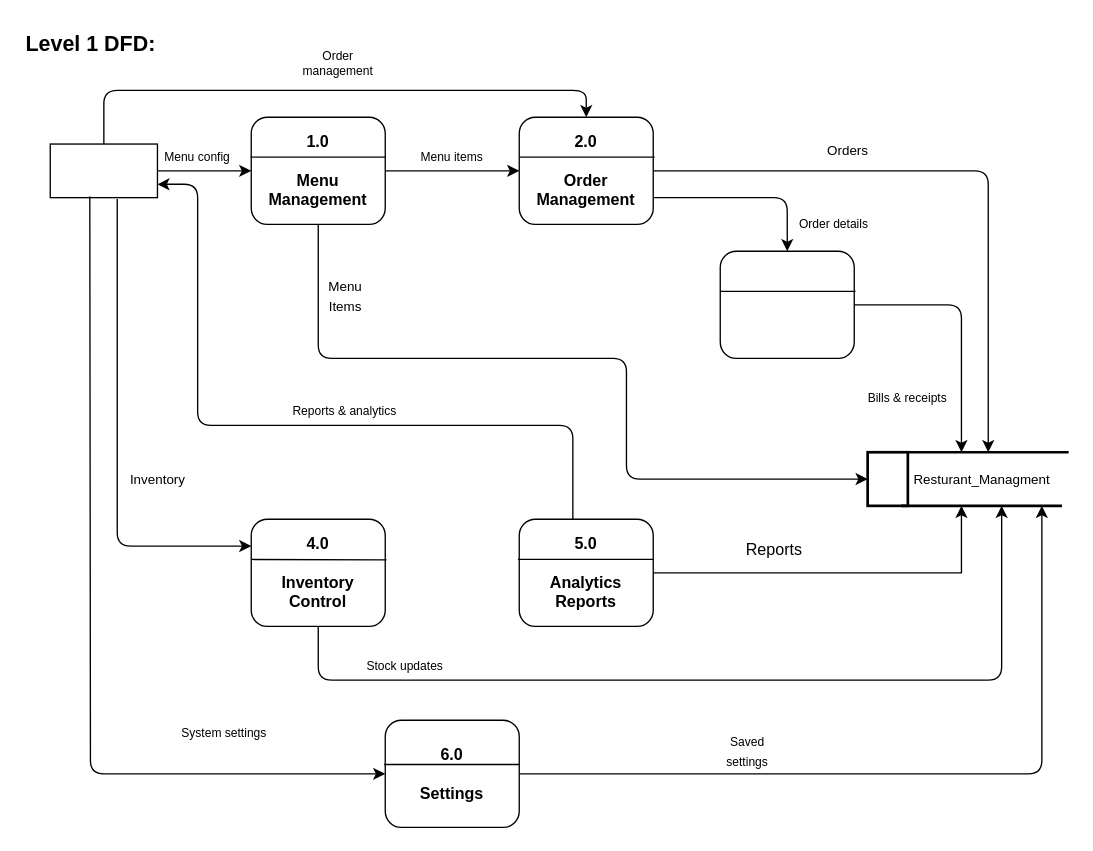
The diagram is 1093 pixels wide and 851 high, and some of its shapes have lost their labels. The centre of each missing label's shape, as x and y in pixels:
3.0 Billing System: the point at 786,304
Admin: the point at 103,170
DB: the point at 887,478
